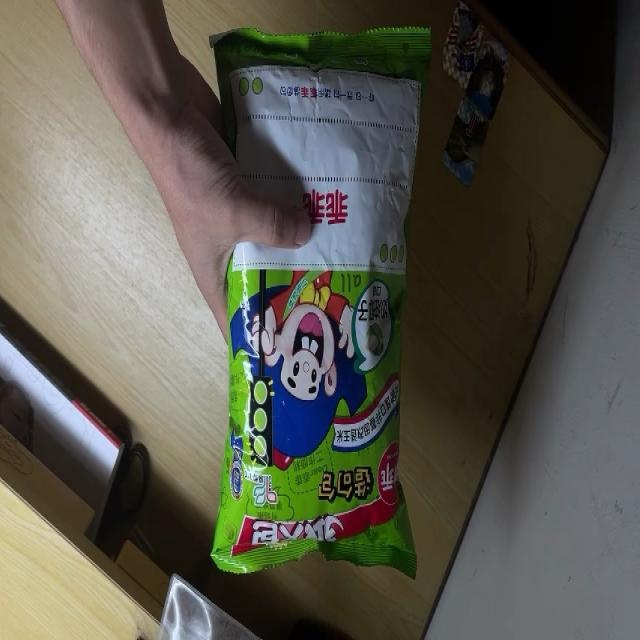Good-Luck: (207, 32, 433, 580)
